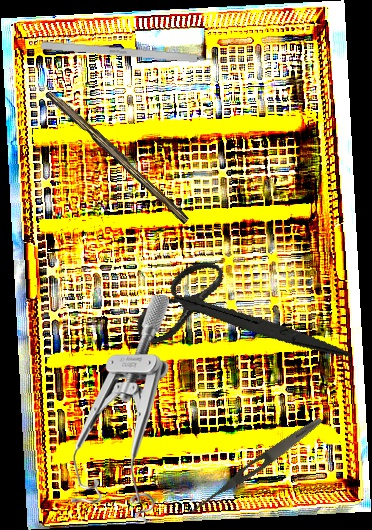Dressing Forceps: (188, 413, 325, 519)
Hook Surgical: (40, 40, 235, 67)
Iris Scissors: (123, 228, 352, 415)
Scalpel Handle: (43, 87, 194, 225)
Speculum: (71, 295, 169, 523)
